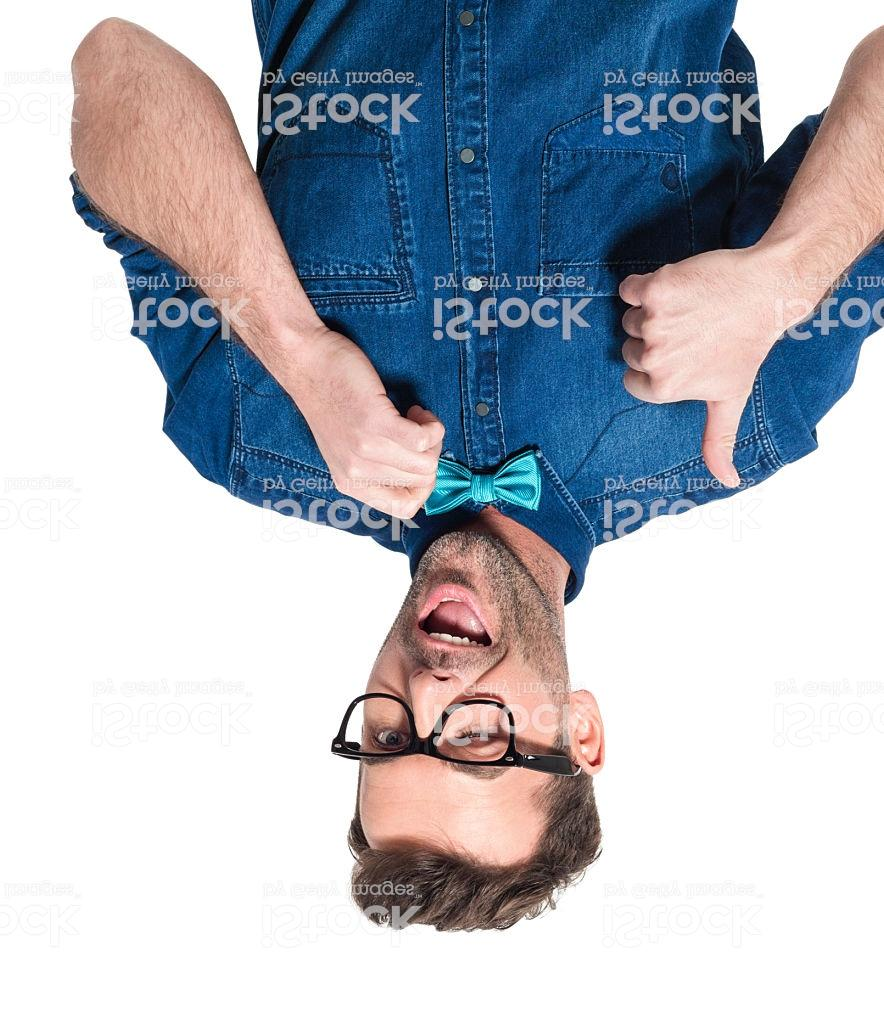thumbsdown: (618, 252, 747, 488)
